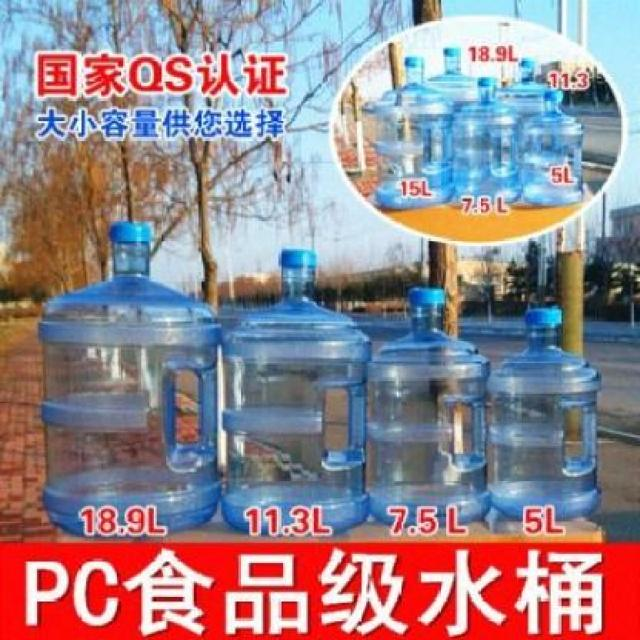coolerbottle: (37, 220, 225, 542), (223, 246, 376, 541), (368, 281, 493, 534), (485, 303, 602, 518)
